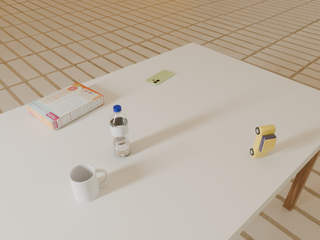bottle: (110, 105, 130, 157)
box: (26, 83, 104, 131)
cup: (69, 164, 108, 202)
phone: (146, 70, 174, 85)
toy_car: (250, 125, 277, 158)
